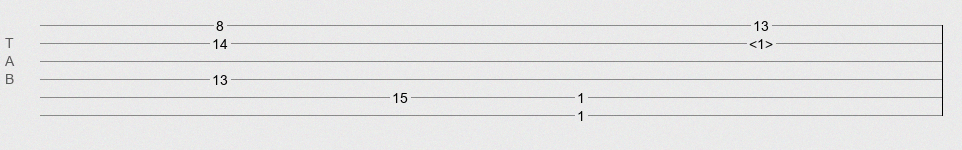1: (577, 90, 585, 100), (577, 108, 585, 118)
13: (212, 72, 228, 82), (753, 18, 769, 28)
14: (212, 36, 228, 46)
15: (392, 90, 408, 100)
8: (216, 18, 224, 28)
harmonic: (749, 36, 773, 46)
